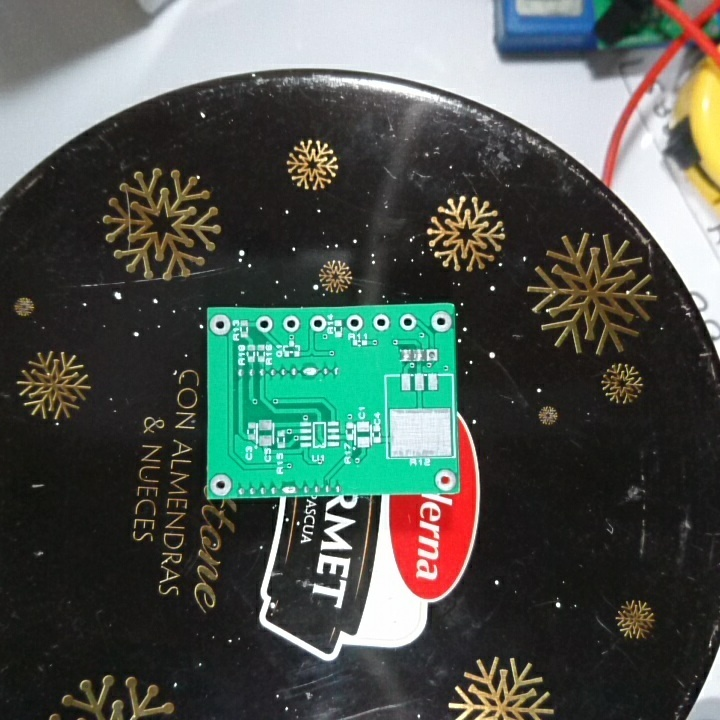F: (428, 307, 453, 336), (207, 470, 233, 497), (208, 312, 233, 340), (397, 311, 422, 334), (433, 467, 456, 492), (307, 309, 328, 334), (369, 312, 393, 333), (281, 313, 304, 334), (253, 314, 277, 332), (345, 313, 367, 332), (424, 347, 440, 363)
P: (299, 363, 319, 381), (279, 483, 299, 497)
